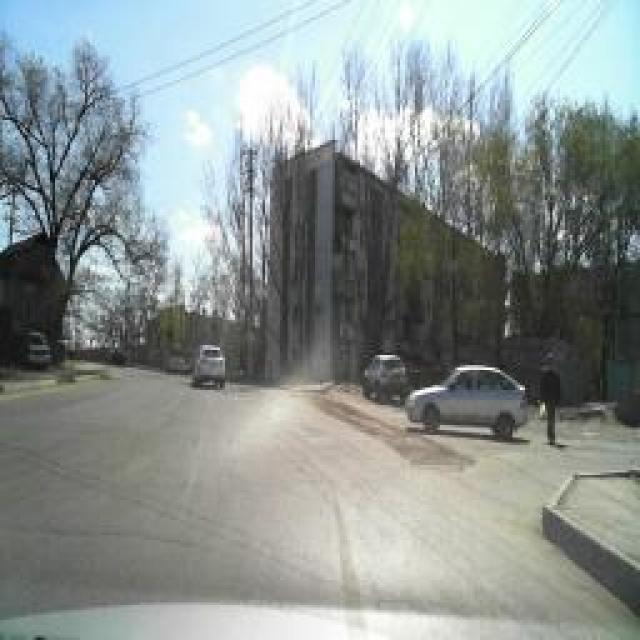sign: (246, 329, 256, 346)
